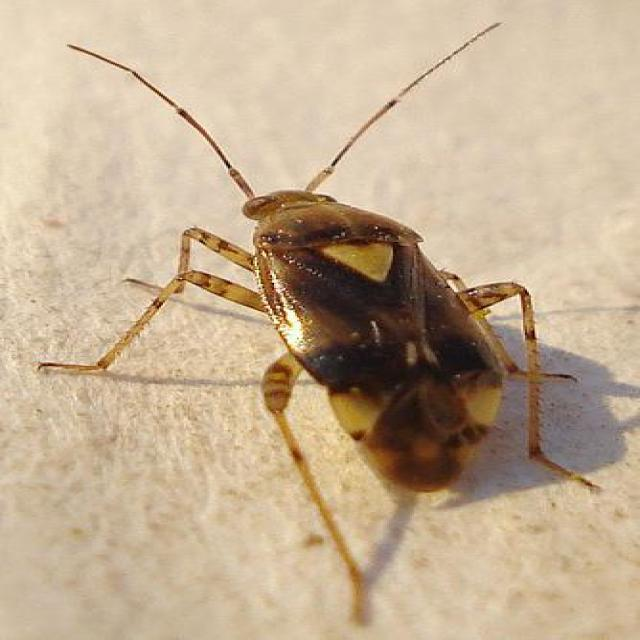Miridae-Adult-: (47, 16, 599, 591)
